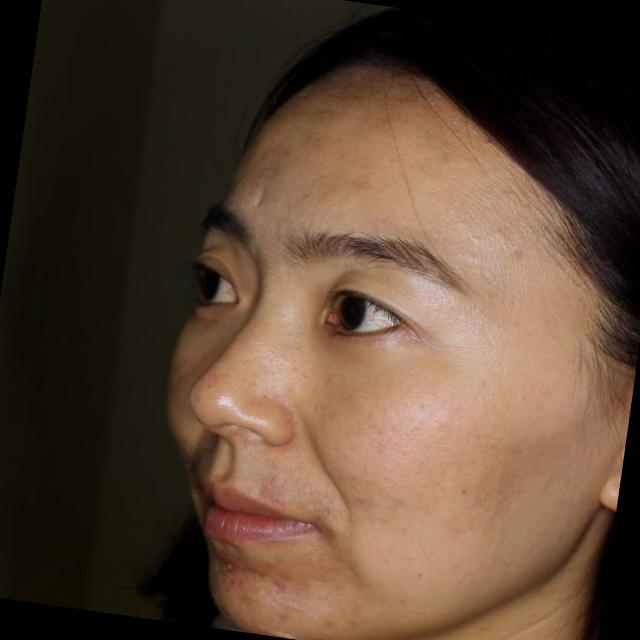acne: (266, 568, 298, 606), (318, 611, 350, 637), (238, 588, 264, 616), (248, 560, 269, 591), (220, 552, 242, 577)
